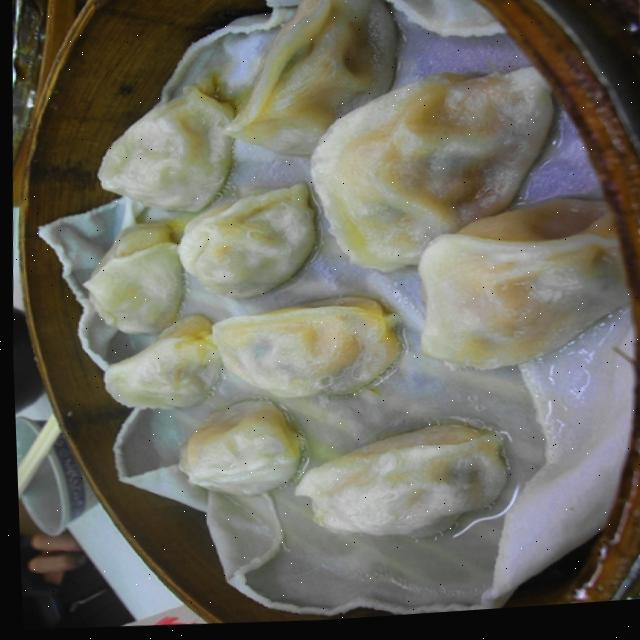带馅早点: (30, 0, 640, 637)
